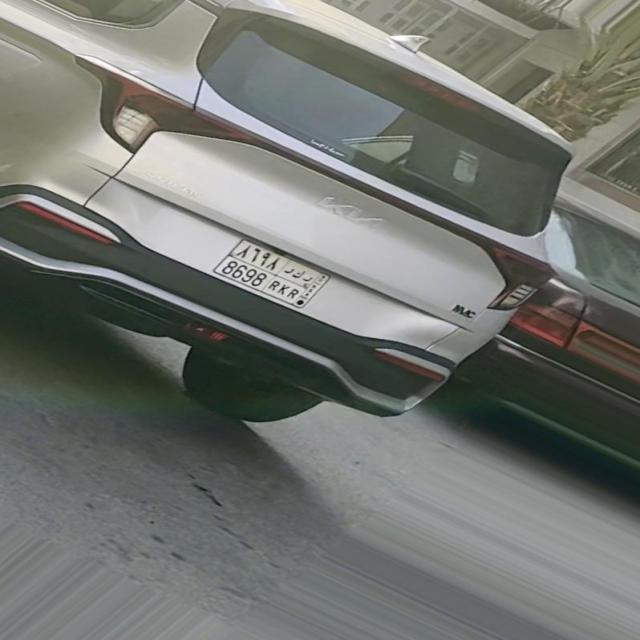Car-plate: (197, 223, 349, 319)
